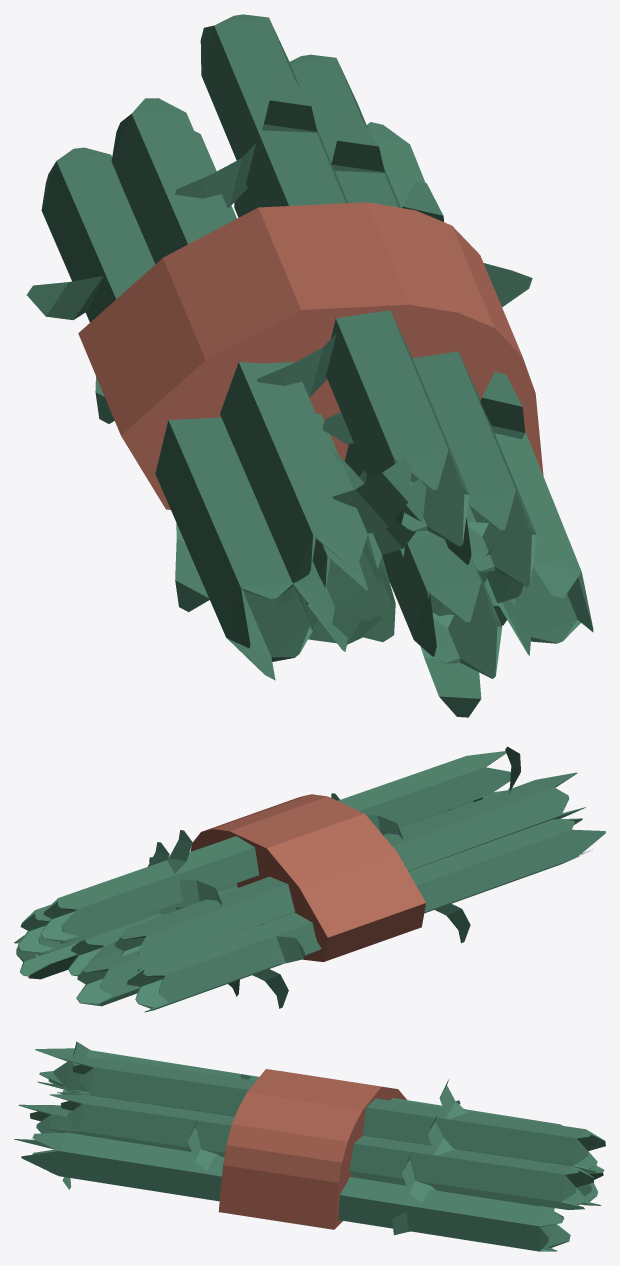
Rendered from mombaca_grass_final_product.fbx.
3 renders of one model, top to bottom at view 1: azimuth 30°, elevation 25°; view 2: azimuth 150°, elevation 25°; view 3: azimuth 270°, elevation 25°, orthographic. The views are drawn at different scales.
Parts seen in each view (by area): view 1: Cylinder.028; view 2: Cylinder.028; view 3: Cylinder.028.
Boxes of the visible parts, x1=… form: Cylinder.028: x1=27, y1=14, x2=593, y2=717; Cylinder.028: x1=14, y1=746, x2=605, y2=1012; Cylinder.028: x1=14, y1=1041, x2=605, y2=1251.
Bounding box in the file's own units: 137 × 64.92 × 219.
